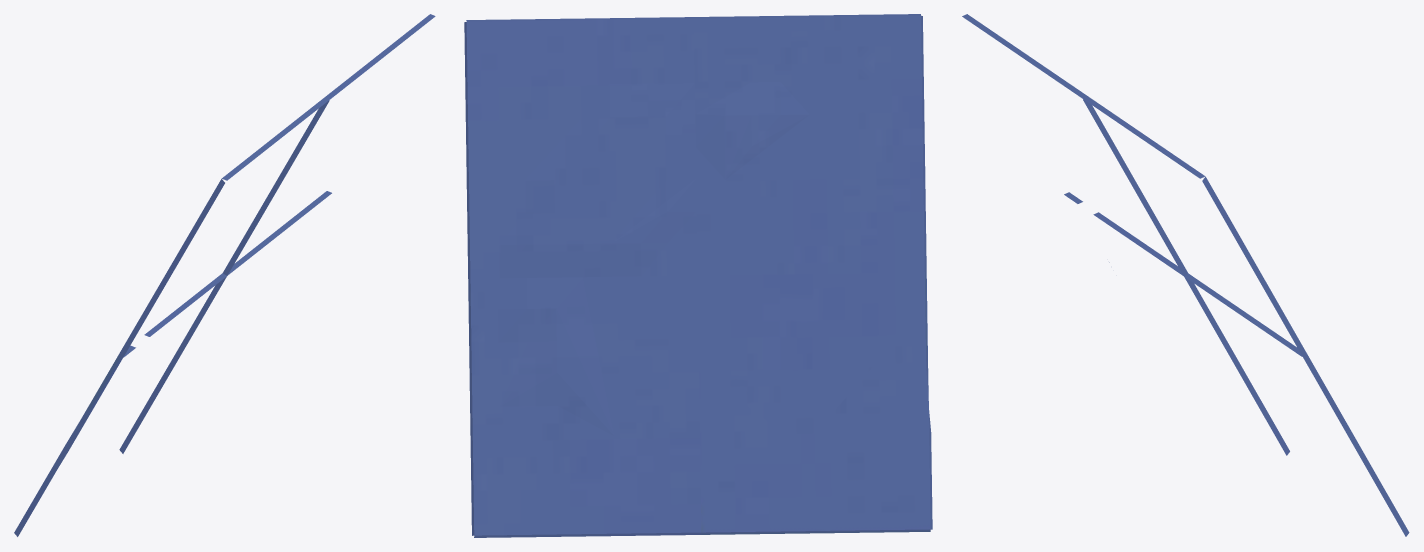
The picture shows the model from 3 angles, left to right: view 1: azimuth 30°, elevation 25°; view 2: azimuth 150°, elevation 25°; view 3: azimuth 270°, elevation 25°; orthographic projection. The views are drawn at different scales.
Size of the model in its own units: 39619 by 34996 by 34319.
Materials: 1 (1 with a texture image).
